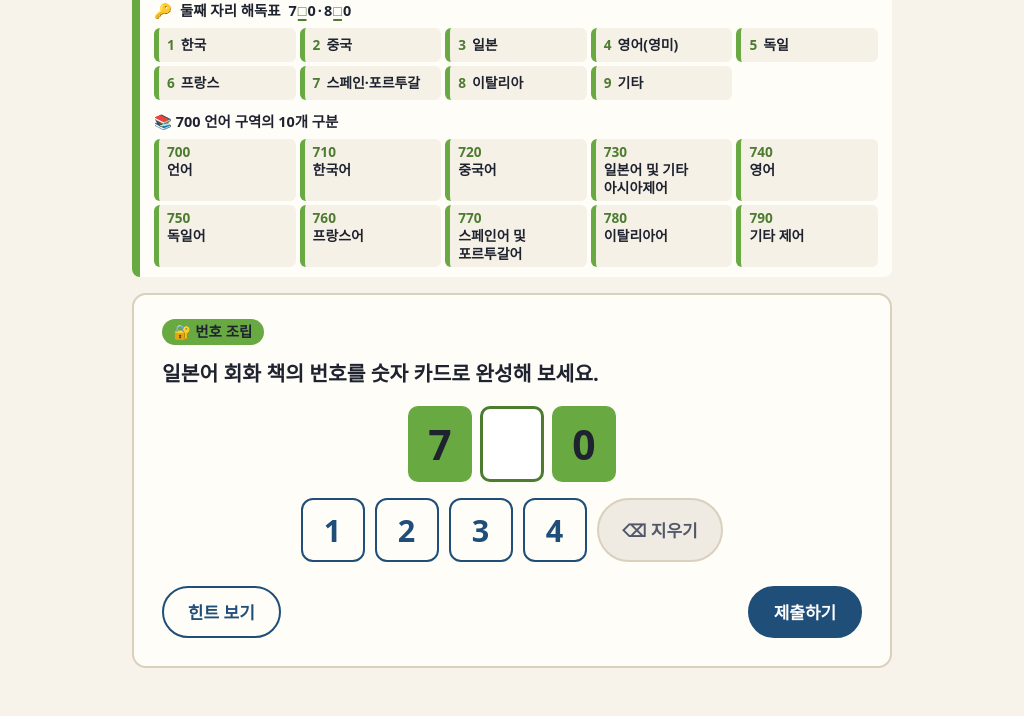
Test: 게임 2단계: 번호 속 비밀 풀기 › 번호 조립: 숫자 카드로 빈칸을 채우고, 지우기로 고칠 수 있다
(page scrolled)
Expected: the text "🔐 번호 조립" is shown, [162, 319, 264, 345]
빈칸을 채우지 않고 제출하면 안내한다
What coordinates should you click on to do the following:
click the button "제출하기"
I would click on:
 (805, 612)
Its box is [748, 586, 862, 638].
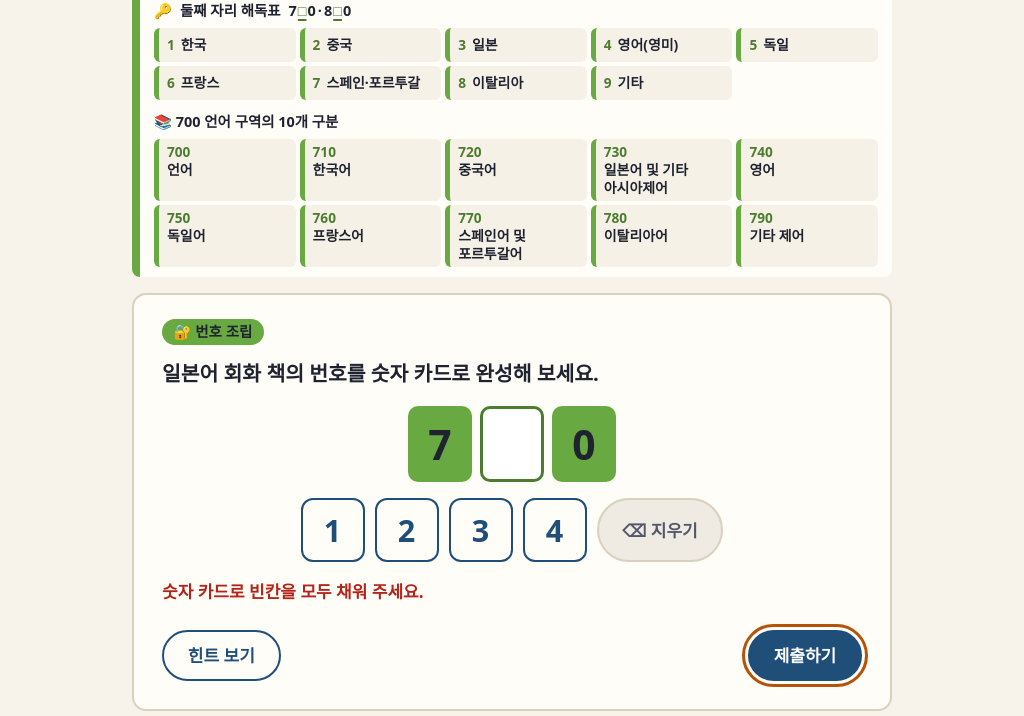
Result: the message reads "숫자 카드로 빈칸을 모두 채워 주세요." at [162, 580, 424, 603]
What coordinates should you click on to do the following:
click the button named "숫자 4"
I would click on:
 (554, 530)
Its box is [522, 498, 586, 562].
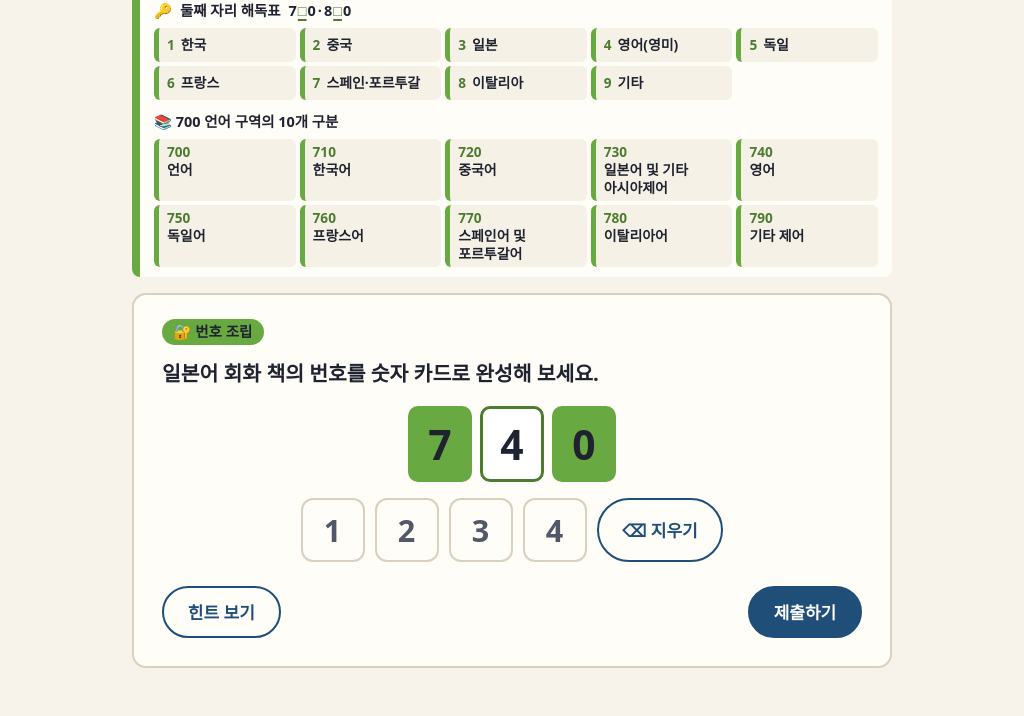
Result: the button named "숫자 3" is disabled at [448, 498, 512, 562]
What coordinates should you click on to do the following:
click the button "⌫ 지우기"
I would click on:
 (660, 530)
Its box is [596, 498, 724, 562].
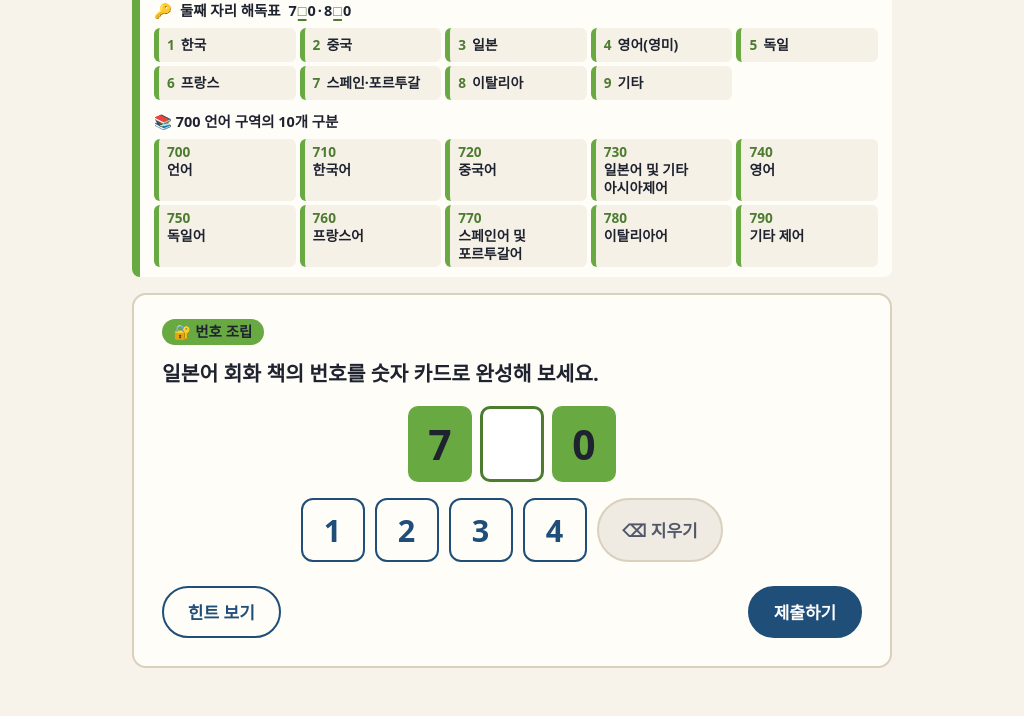
What coordinates should you click on to do the following:
click the button named "숫자 3"
I would click on:
 (480, 530)
Its box is [448, 498, 512, 562].
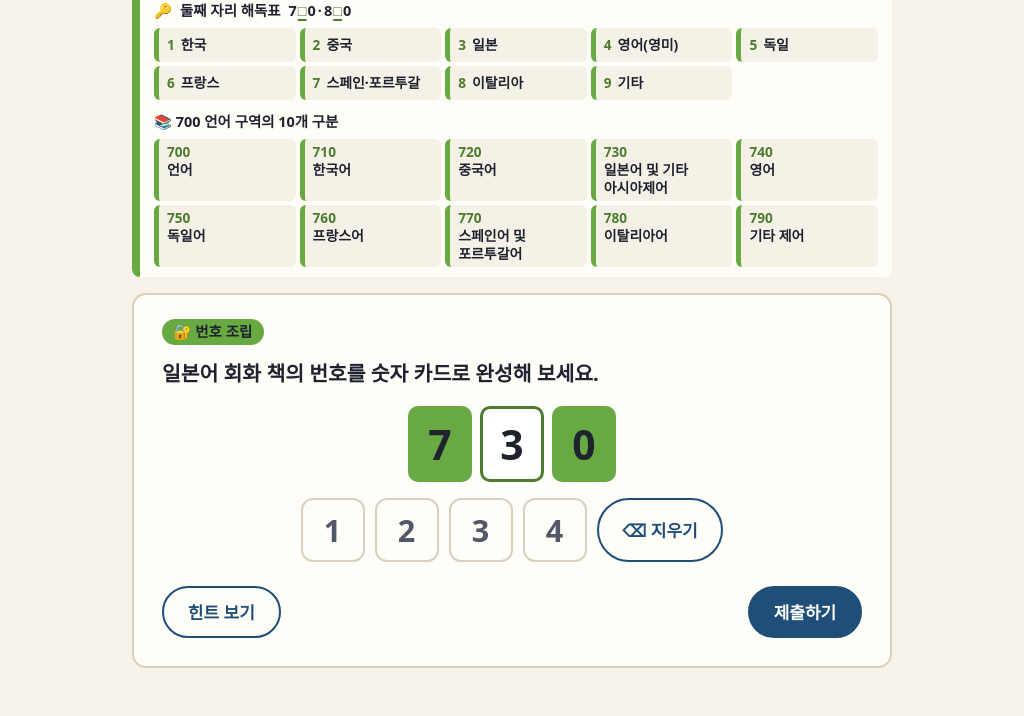
What coordinates should you click on to do the following:
click the button "제출하기"
I would click on:
 (805, 612)
Its box is [748, 586, 862, 638].
(page scrolled)
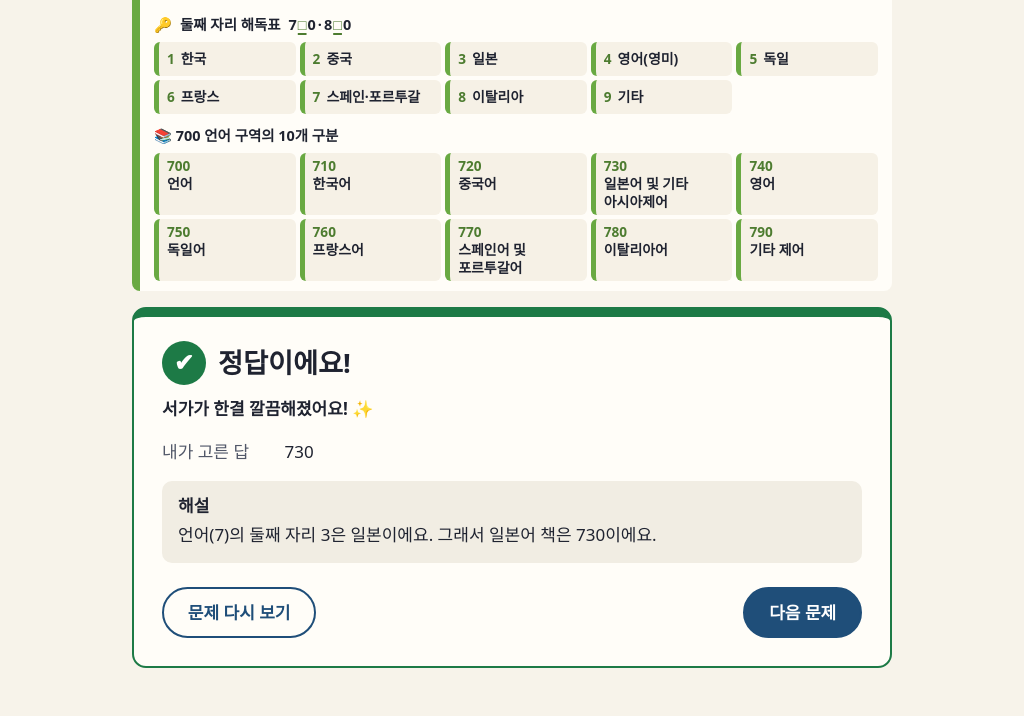
Result: the heading "✔ 정답이에요!" is shown at [162, 341, 351, 385]
Result: the text "730" next to "내가 고른 답" is shown at [284, 440, 314, 463]
